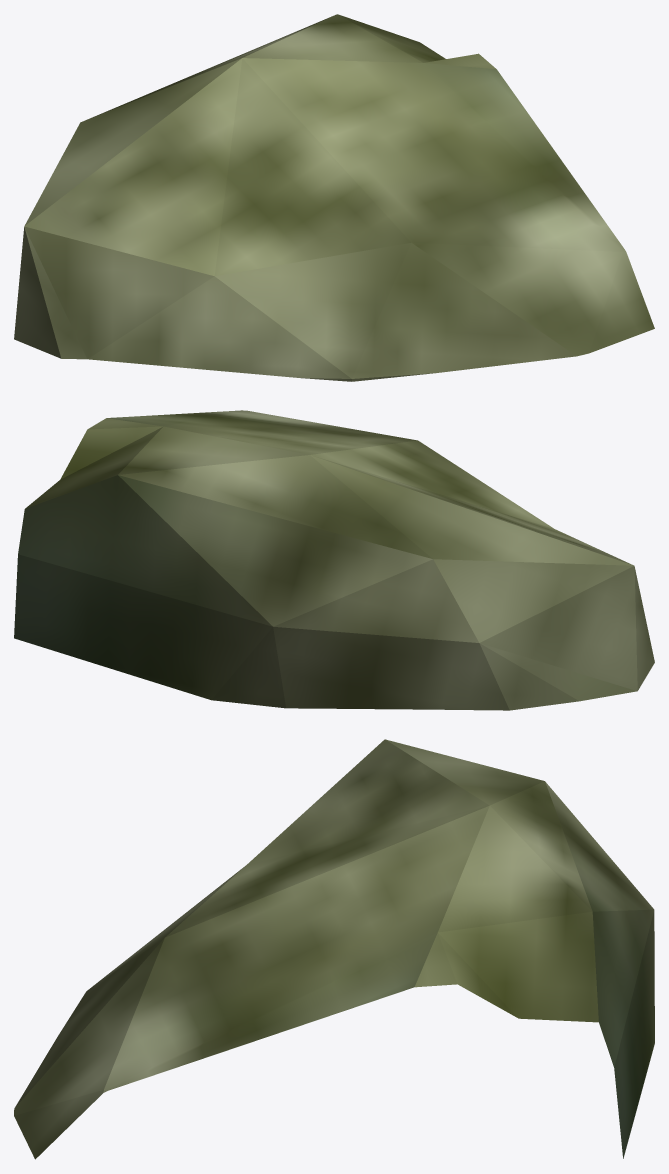
3 views of the same model, one above another, from view 1: azimuth 30°, elevation 25°; view 2: azimuth 150°, elevation 25°; view 3: azimuth 270°, elevation 25° (orthographic). The views are drawn at different scales.
Size of the model in its own units: 0.5388 by 0.1953 by 0.5074.
Materials: 1 (1 with a texture image).
